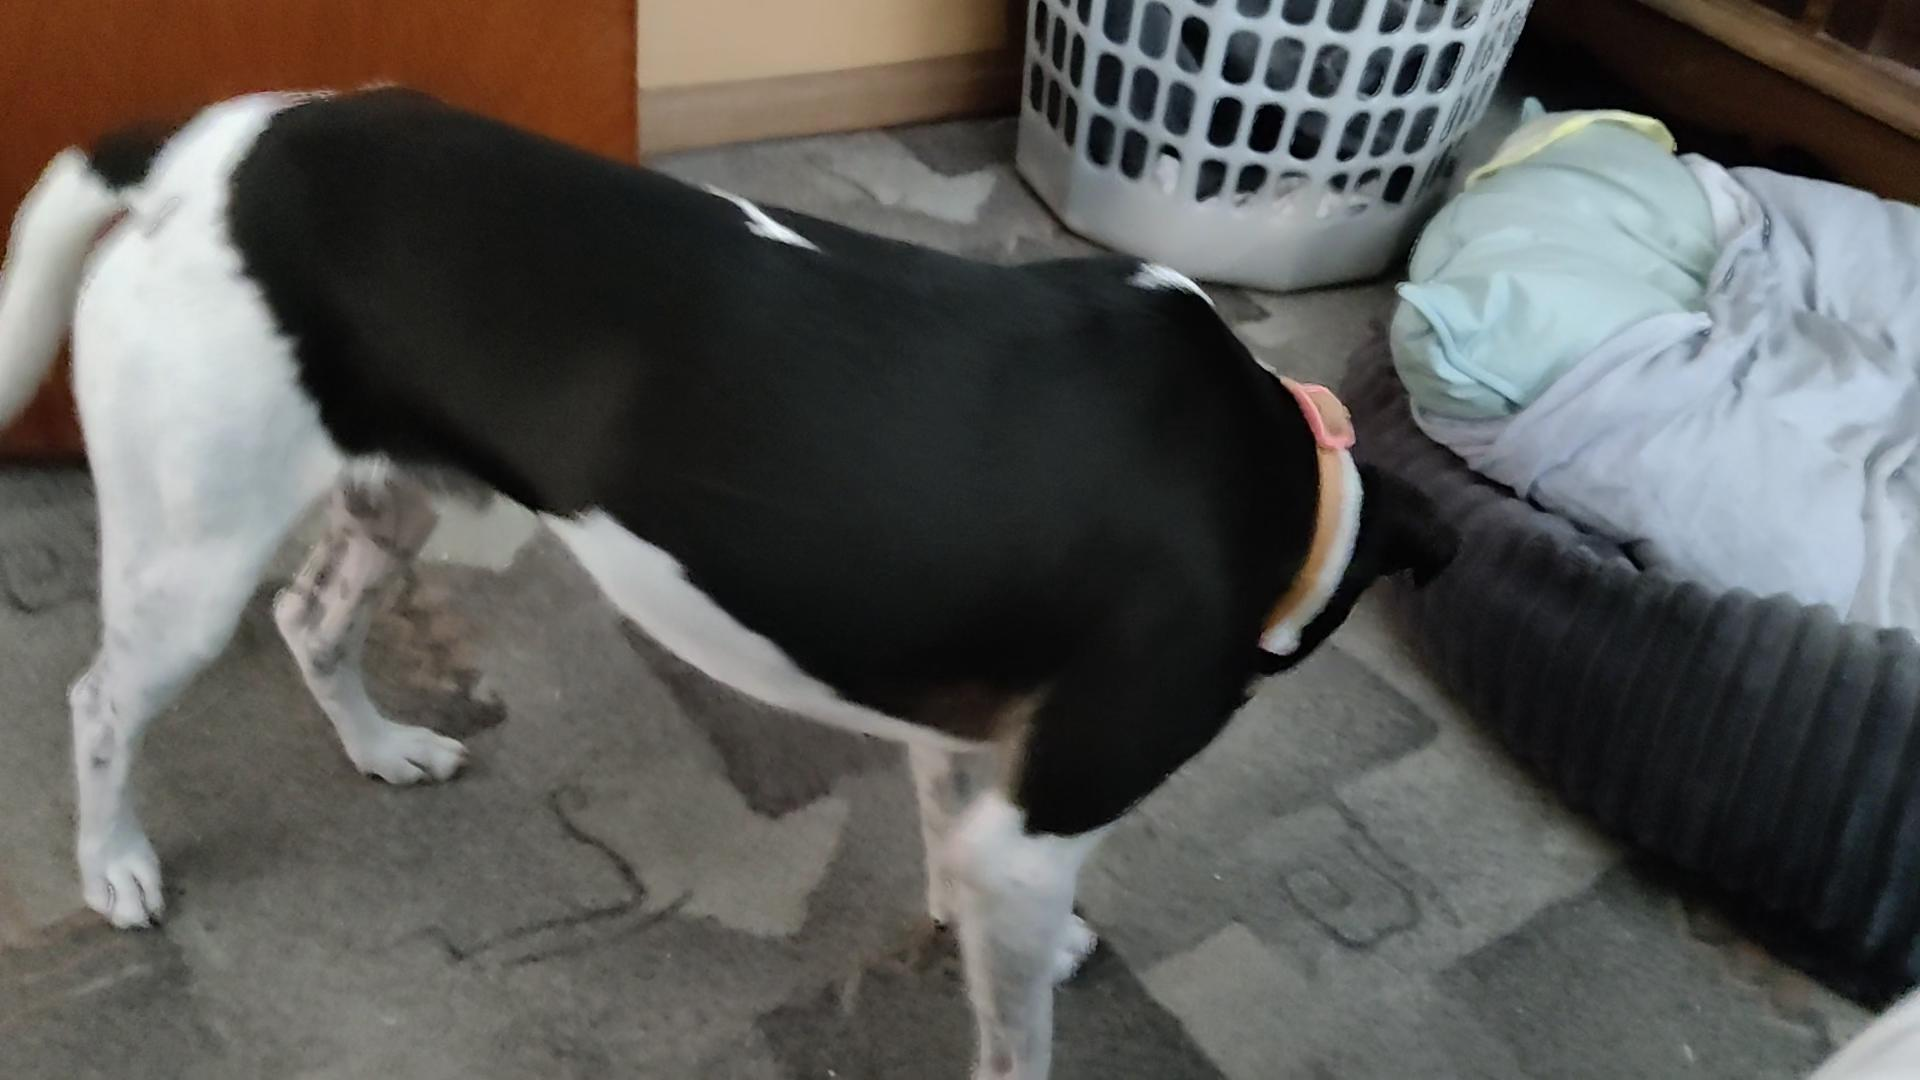Dog: (0, 70, 1474, 1079)
